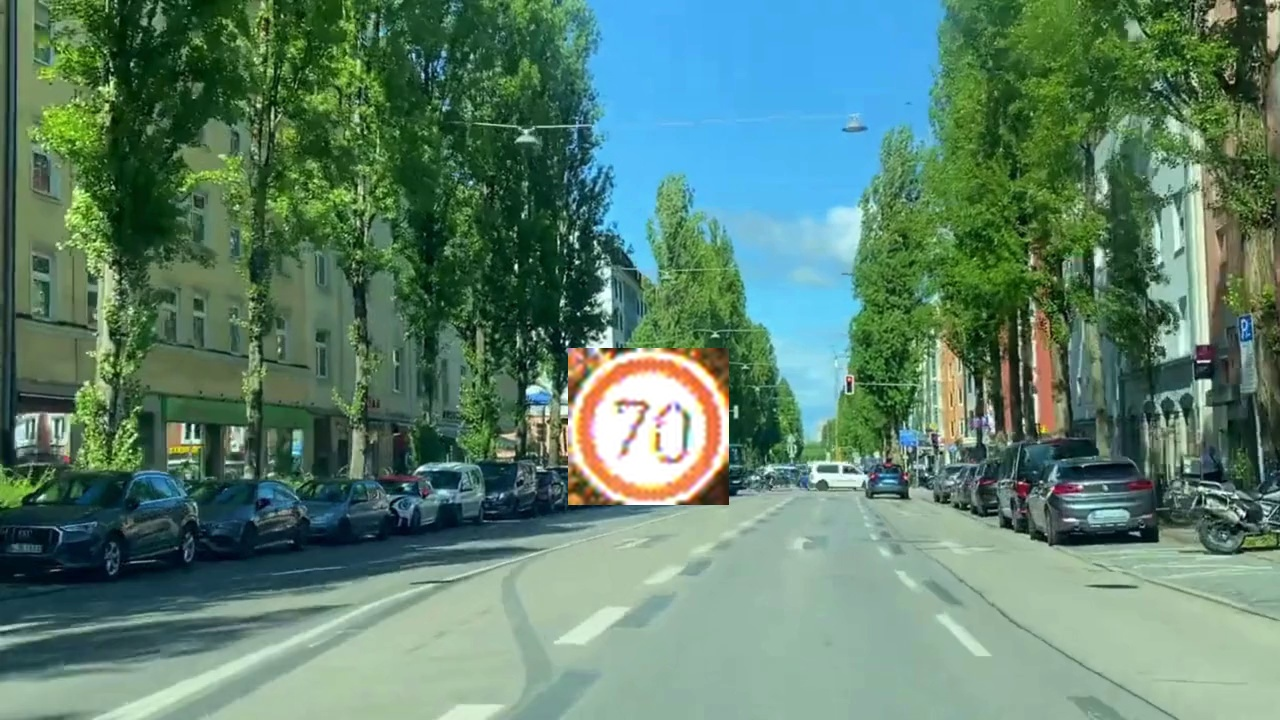Speed 70: (568, 348, 729, 505)
